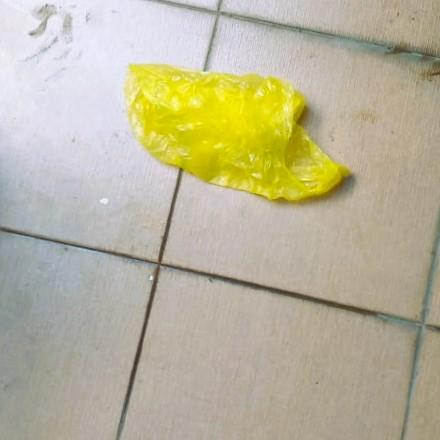Plastik: (123, 63, 353, 201)
